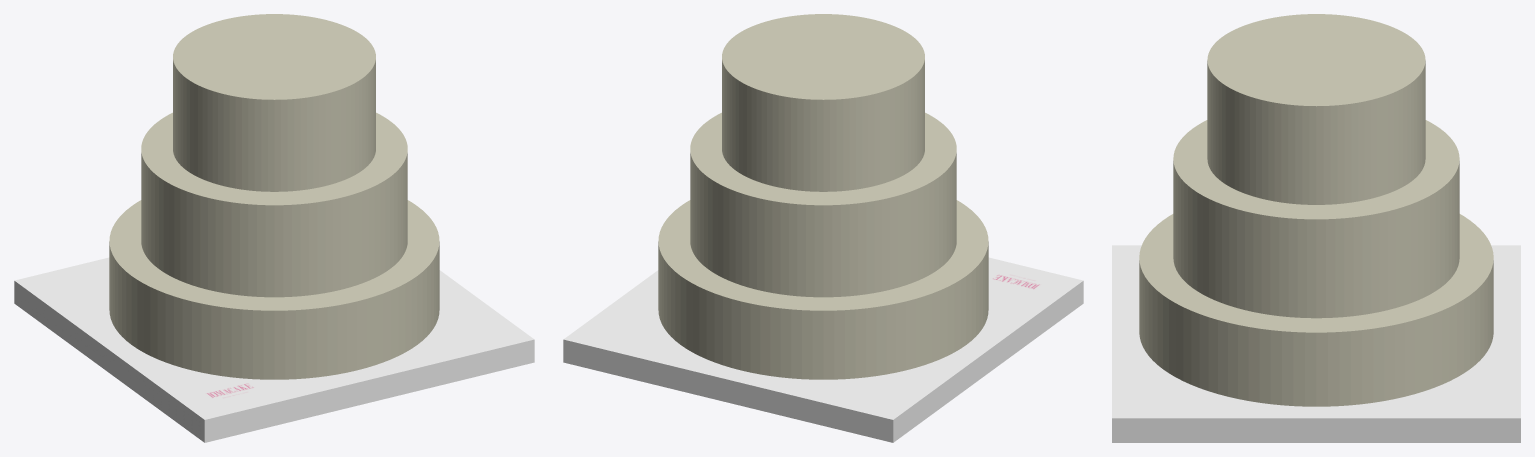
The model's file is cake_tier3_10-8-6_layers2_v33.glb.
3 renders of one model, left to right at view 1: azimuth 30°, elevation 25°; view 2: azimuth 150°, elevation 25°; view 3: azimuth 270°, elevation 25°, orthographic. The views are drawn at different scales.
Visible parts, largest first — view 1: Tier2, Tier1, Tier0, Board, Logo; view 2: Tier2, Tier1, Tier0, Board, Logo; view 3: Tier2, Tier1, Tier0, Board.
Part boxes in pixels (x1,y1,x2,y2): Tier2: [173, 14, 375, 191]; Tier1: [141, 112, 407, 297]; Tier0: [109, 200, 439, 379]; Board: [14, 257, 534, 442]; Logo: [198, 380, 265, 403]; Tier2: [722, 14, 924, 191]; Tier1: [690, 112, 956, 297]; Tier0: [658, 200, 988, 379]; Board: [563, 257, 1083, 442]; Logo: [988, 268, 1051, 292]; Tier2: [1207, 14, 1425, 204]; Tier1: [1173, 120, 1459, 318]; Tier0: [1139, 214, 1493, 406]; Board: [1112, 245, 1520, 442].
Bounding box in the file's own units: 0.3 × 0.24 × 0.3.
